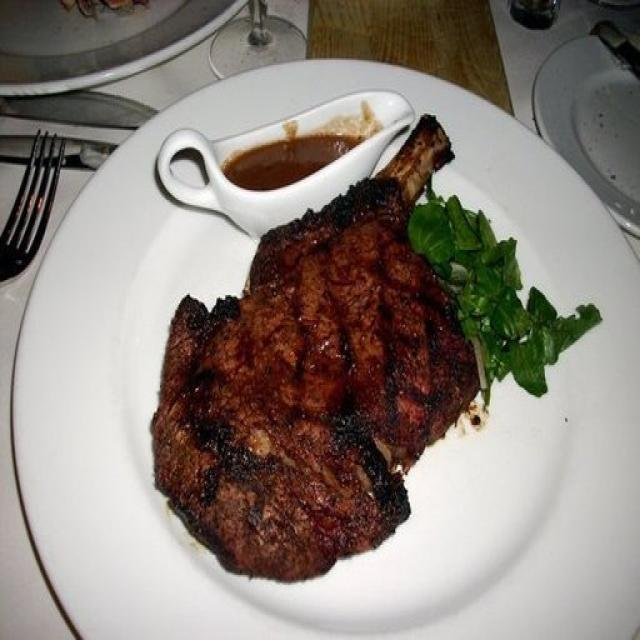Steak: (150, 164, 512, 574)
